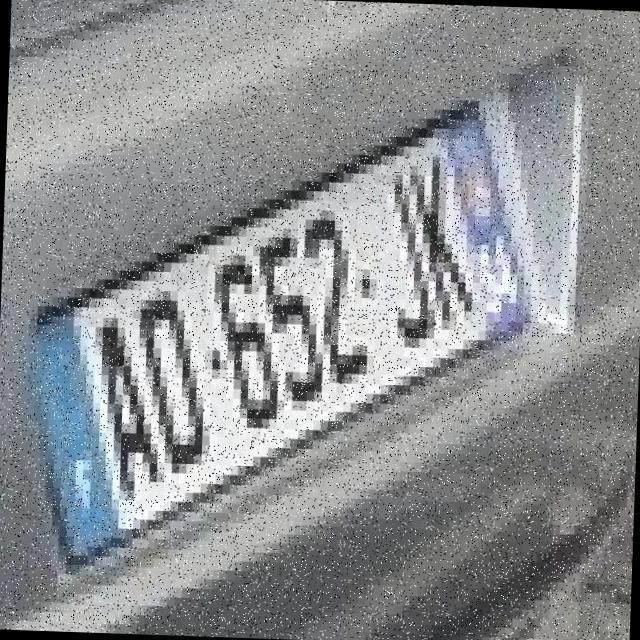License Plate: (1, 60, 578, 612)
